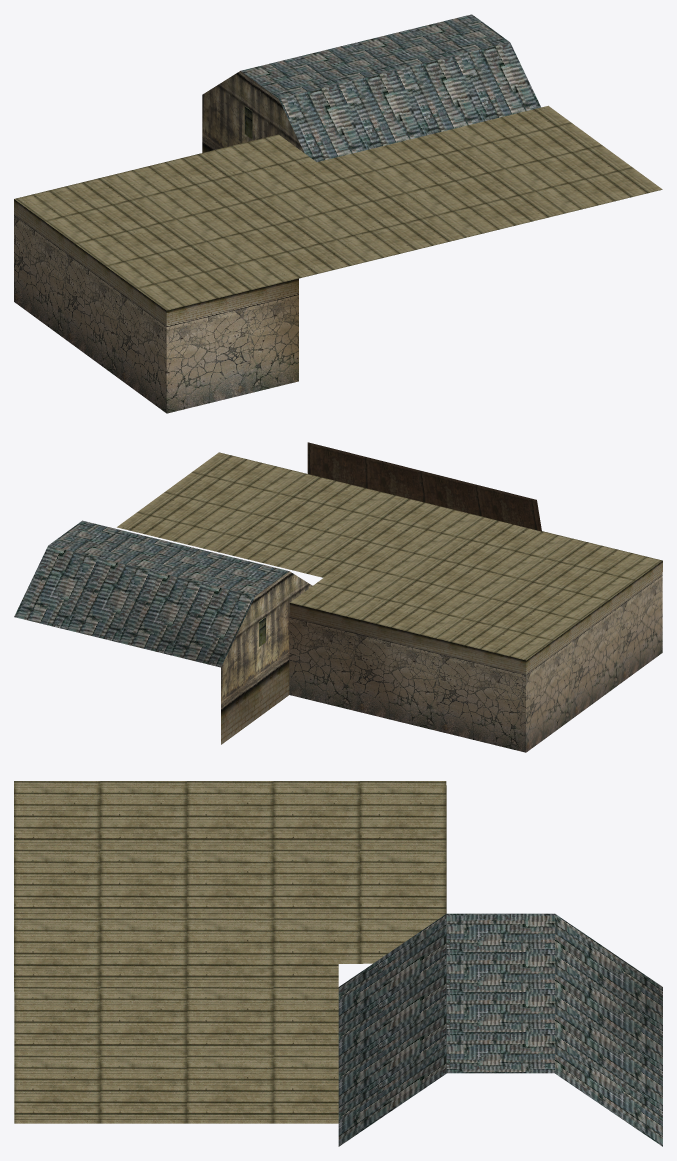
File: M10_Z02_13_WareHousesA.glb
3 renders of one model, top to bottom at view 1: azimuth 30°, elevation 25°; view 2: azimuth 150°, elevation 25°; view 3: azimuth 270°, elevation 25°, orthographic. The views are drawn at different scales.
Visible parts, largest first — view 1: M10_Z02_13_WAREHOUSESA; view 2: M10_Z02_13_WAREHOUSESA; view 3: M10_Z02_13_WAREHOUSESA.
Boxes of the visible parts, box(x1,y1,x2,y2) form: M10_Z02_13_WAREHOUSESA: box(14, 14, 662, 413); M10_Z02_13_WAREHOUSESA: box(14, 442, 662, 752); M10_Z02_13_WAREHOUSESA: box(14, 781, 662, 1146).
Size of the model in its own units: 30.01 by 8 by 24.01.
6 materials, 6 textured.
